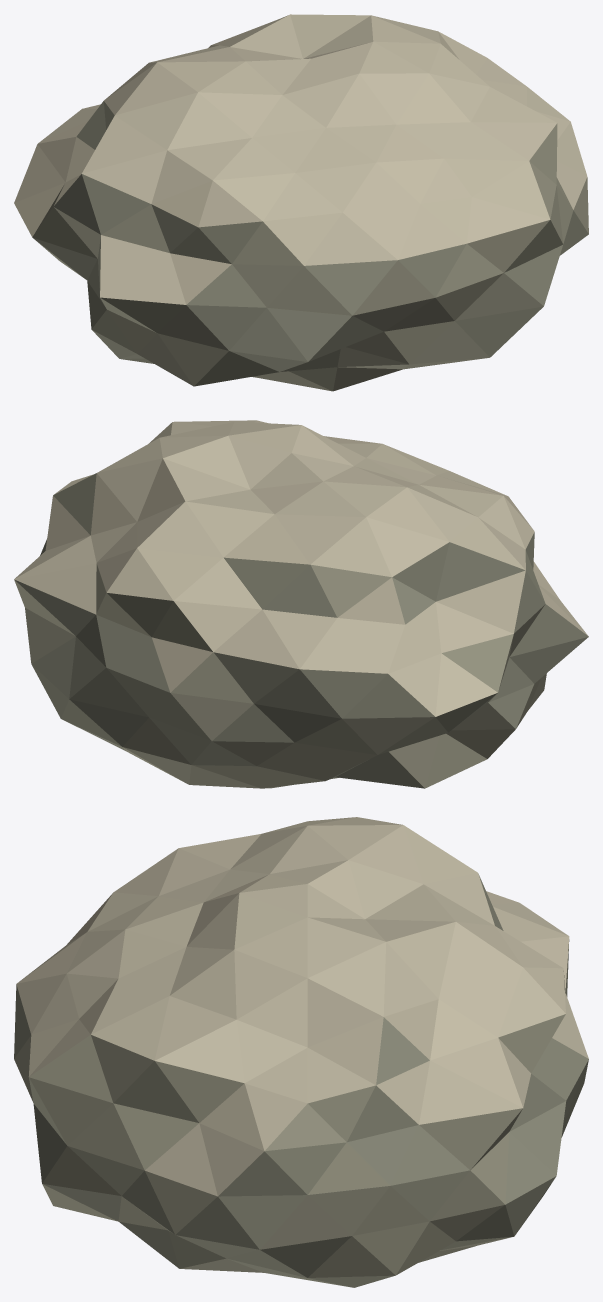
File: john-klein-b.glb
3 views of the same model, one above another, from view 1: azimuth 30°, elevation 25°; view 2: azimuth 150°, elevation 25°; view 3: azimuth 270°, elevation 25° (orthographic). The views are drawn at different scales.
Visible parts, largest first — view 1: john-klein-b; view 2: john-klein-b; view 3: john-klein-b.
Boxes of the visible parts, box(x1,y1,x2,y2) form: john-klein-b: box(14, 14, 588, 391); john-klein-b: box(14, 420, 588, 788); john-klein-b: box(14, 817, 588, 1287).
Size of the model in its own units: 1.1 by 0.5916 by 0.9404.
